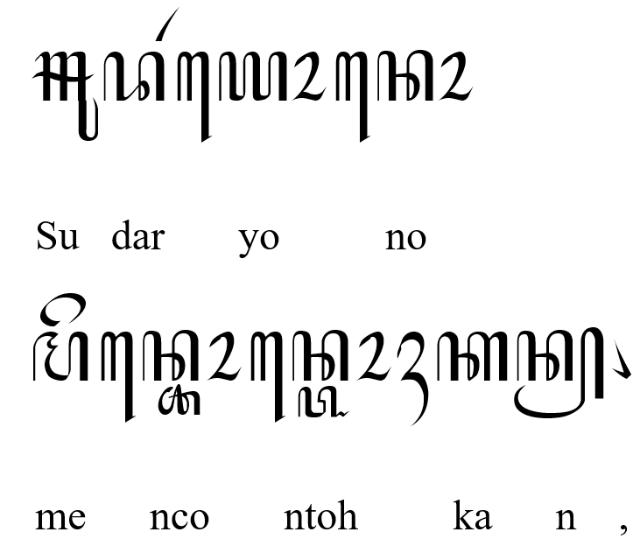-n: (514, 325, 604, 419)
Su: (31, 51, 99, 141)
_c: (157, 383, 201, 415)
_h1: (396, 330, 428, 428)
_r1: (156, 6, 180, 42)
_t: (298, 386, 350, 418)
d: (104, 51, 166, 102)
e: (40, 293, 86, 327)
e1: (177, 50, 213, 144), (334, 50, 370, 144), (250, 330, 286, 424), (100, 330, 136, 422)
k: (436, 330, 508, 382)
kom: (611, 337, 631, 379)
m: (32, 330, 88, 382)
n: (377, 48, 435, 101), (292, 328, 348, 382), (142, 330, 200, 382)
o: (206, 330, 242, 381), (438, 51, 474, 101), (356, 331, 392, 381), (292, 51, 326, 102)
y: (218, 51, 288, 102)
